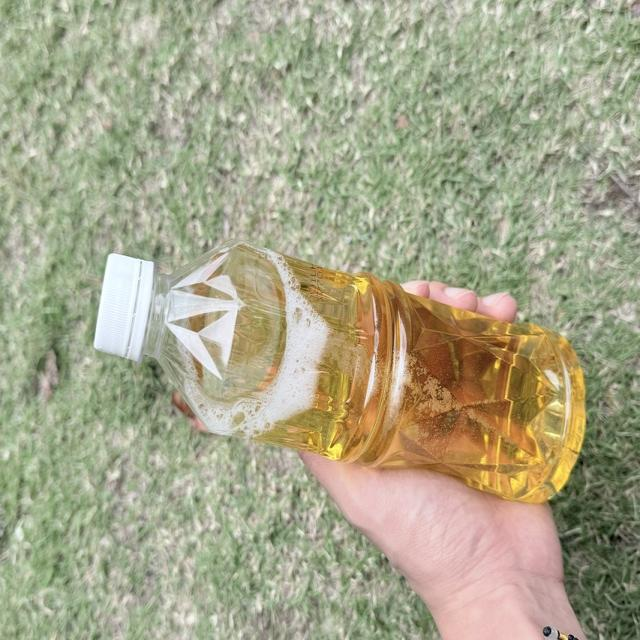high: (95, 242, 584, 502)
